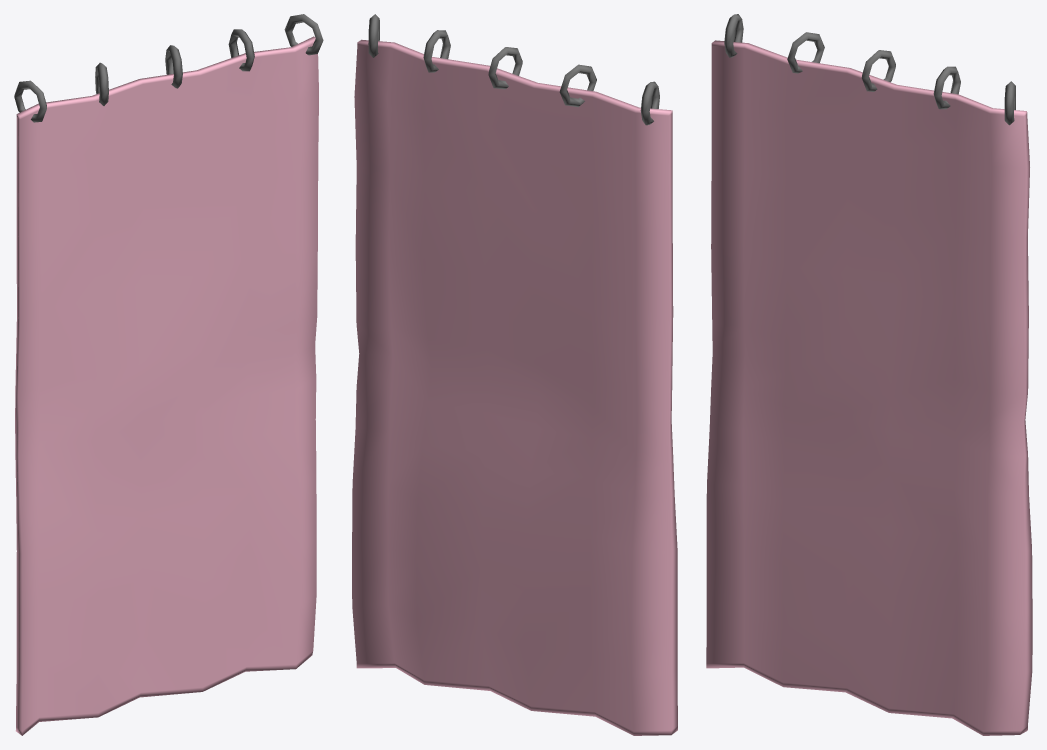
Rendered from curtain_010.fbx.
3 views of the same model, side by side, from view 1: azimuth 30°, elevation 25°; view 2: azimuth 150°, elevation 25°; view 3: azimuth 330°, elevation 25° (orthographic).
Parts seen in each view (by area): view 1: curtain_010; view 2: curtain_010; view 3: curtain_010.
Boxes of the visible parts, <box> form: curtain_010: <box>14,14,323,735</box>; curtain_010: <box>352,14,677,735</box>; curtain_010: <box>706,14,1032,735</box>.
Size of the model in its own units: 174 by 22.83 by 348.
